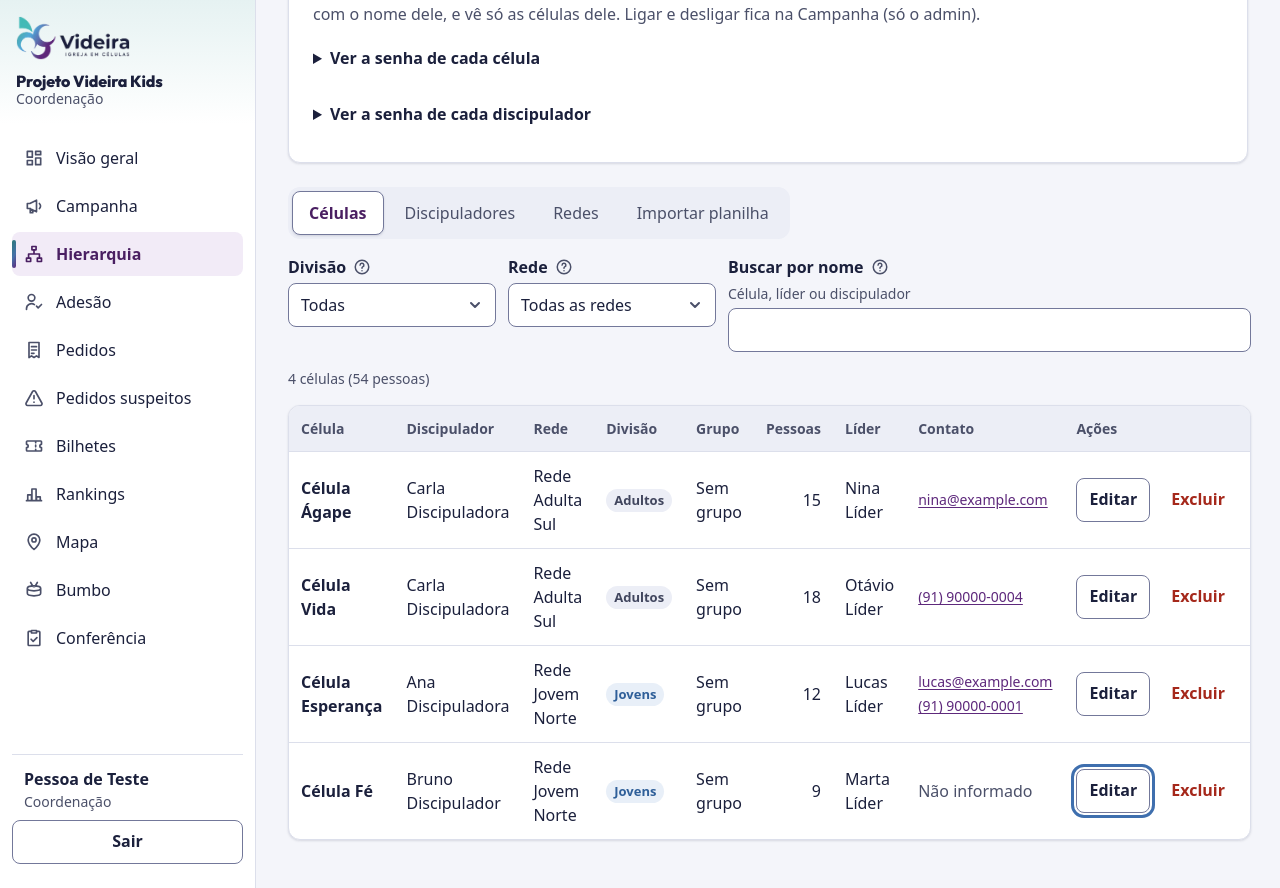
Test case: CA2: editar e excluir › o diálogo prende o foco (Tab e Shift+Tab dão a volta) e Esc fecha devolvendo o foco
(page scrolled)
Click the button named "Editar Célula Fé" at (1113, 790), box [1076,768,1150,812]
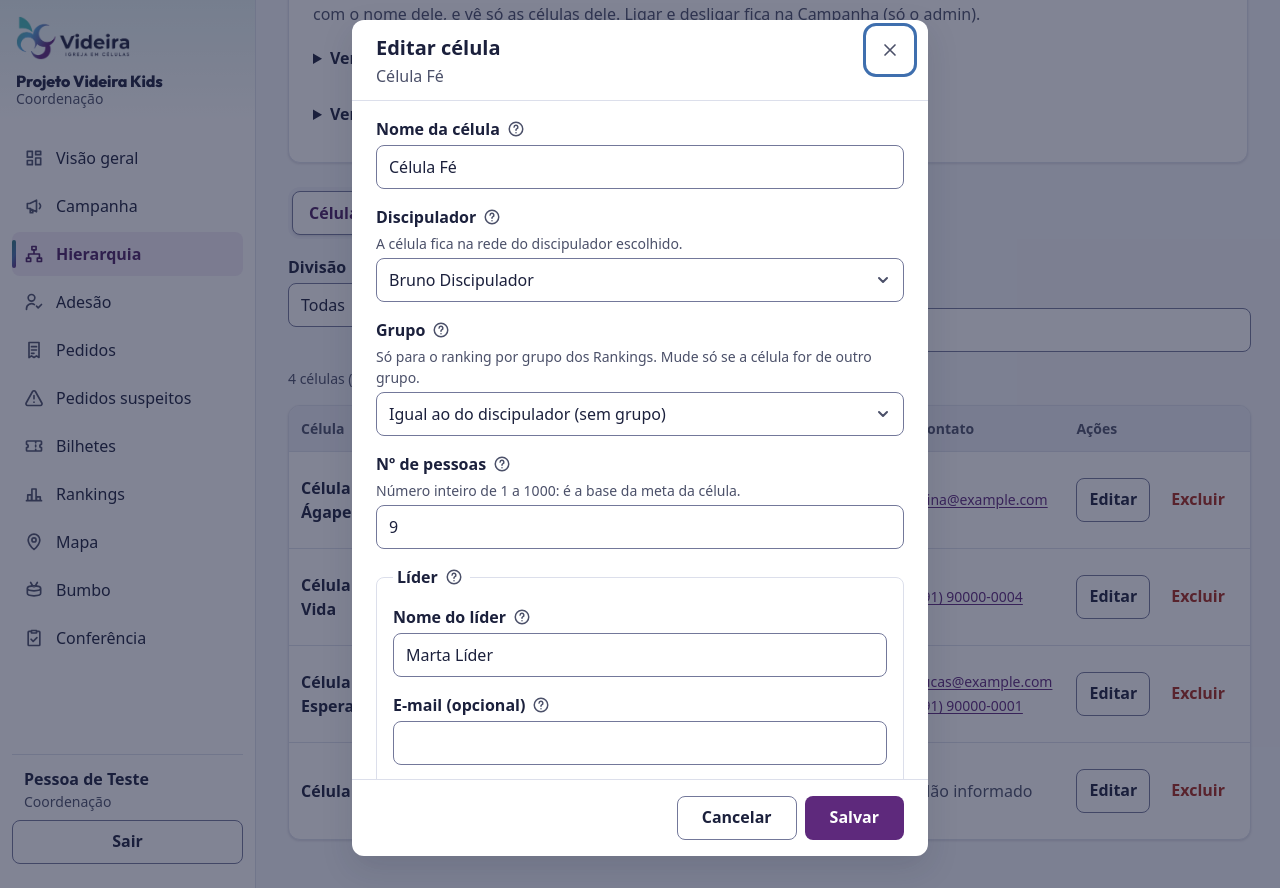
Press Tab in the button named "Fechar", box [868,28,912,72]
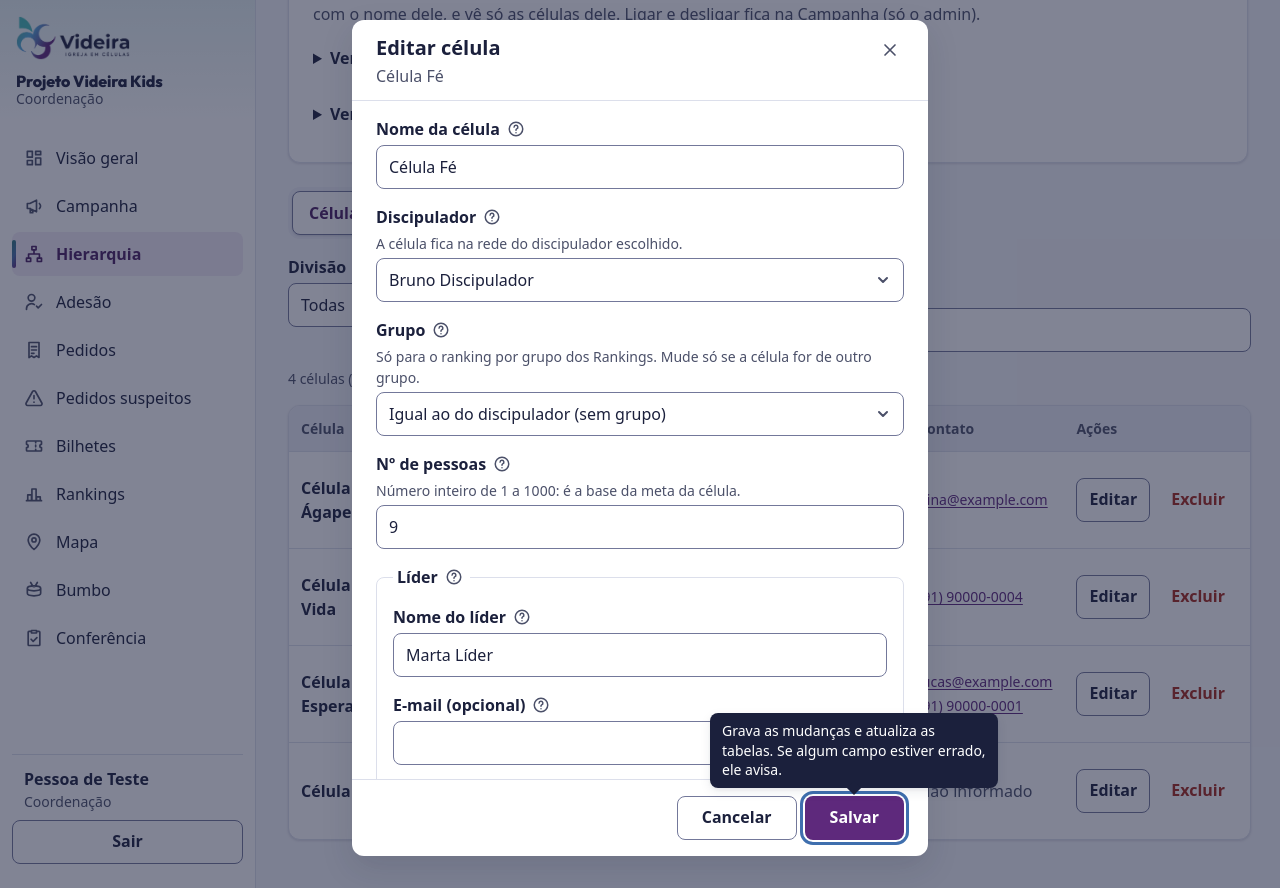
Press Tab in the button "Salvar", box [805,796,904,840]
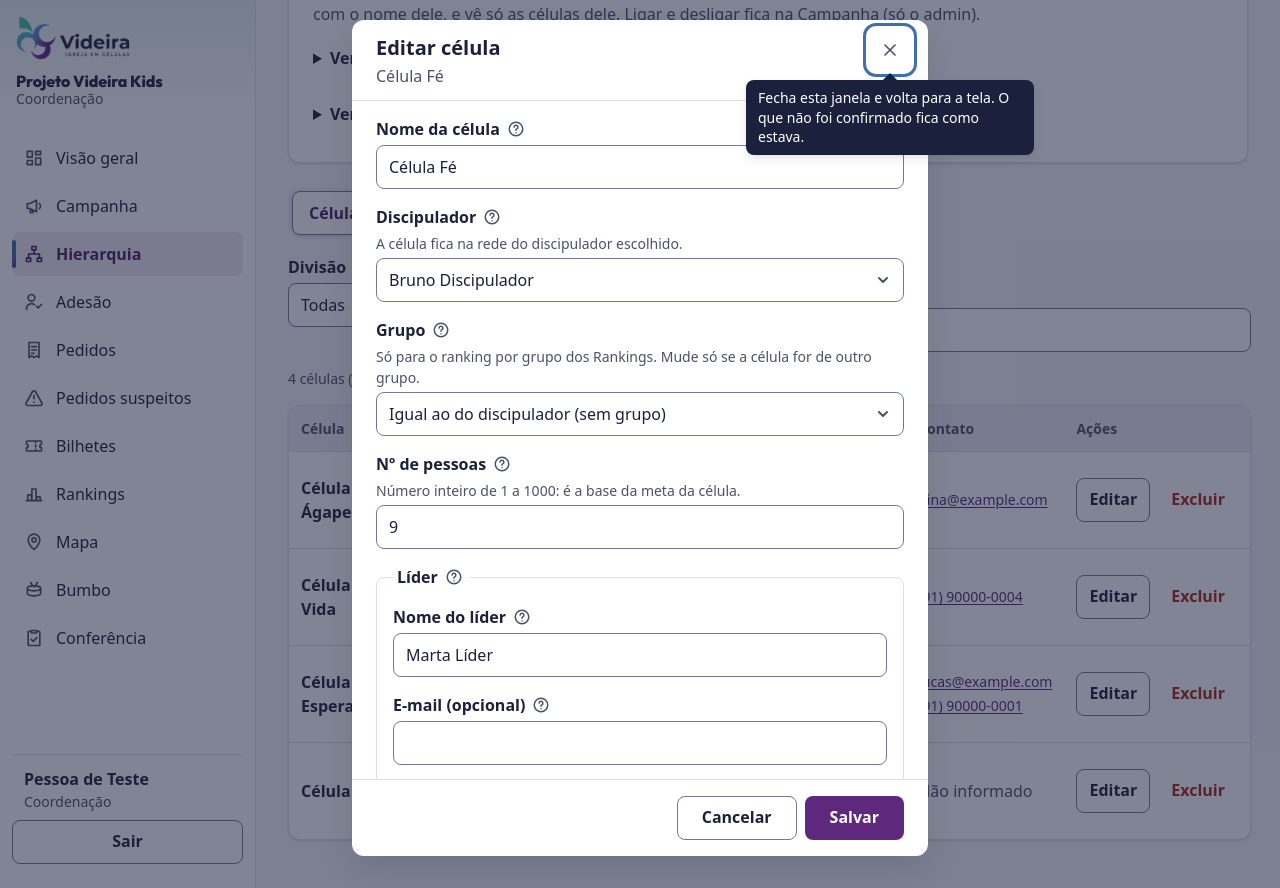
Press Escape in the button named "Fechar", box [868,28,912,72]
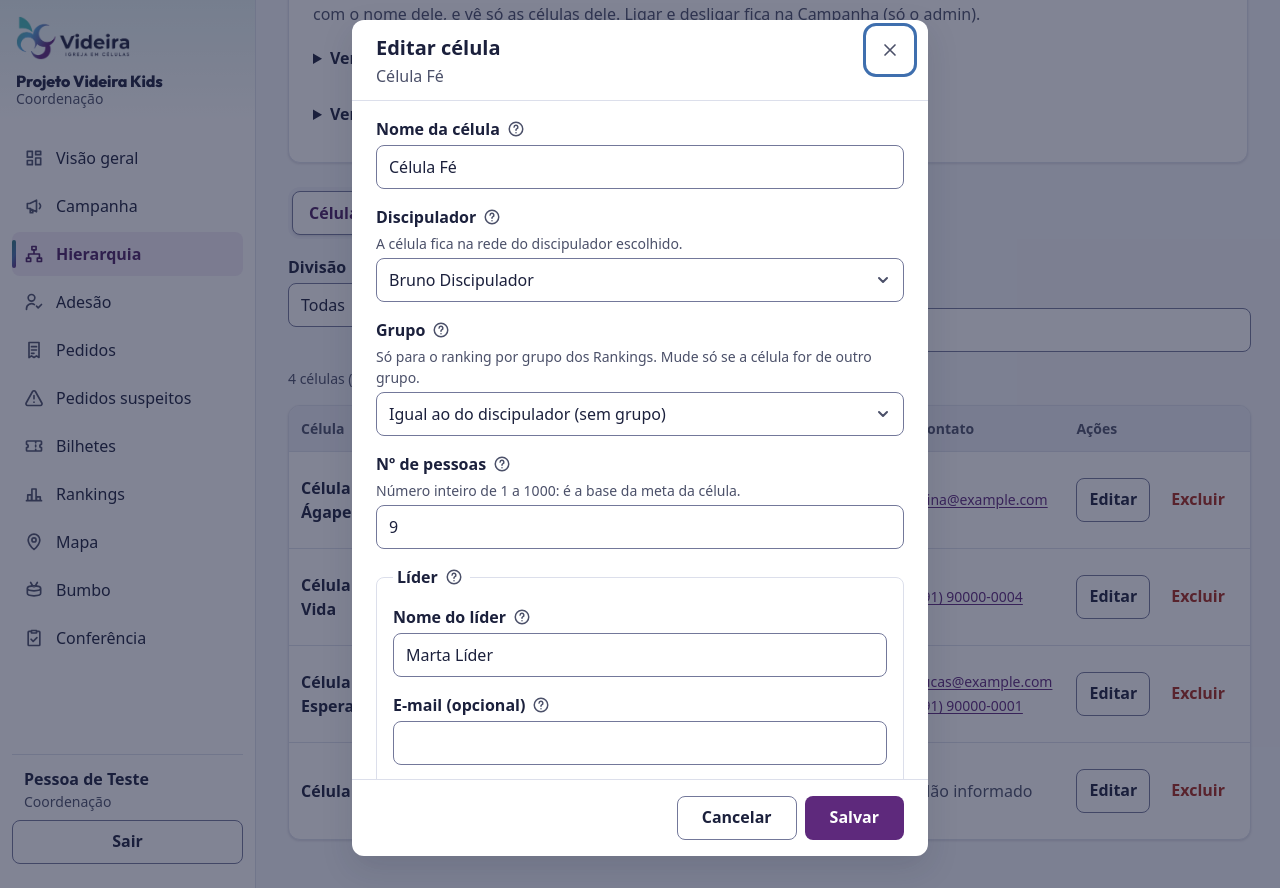
Result: the tooltip is gone
Press Escape in the button named "Fechar", box [868,28,912,72]
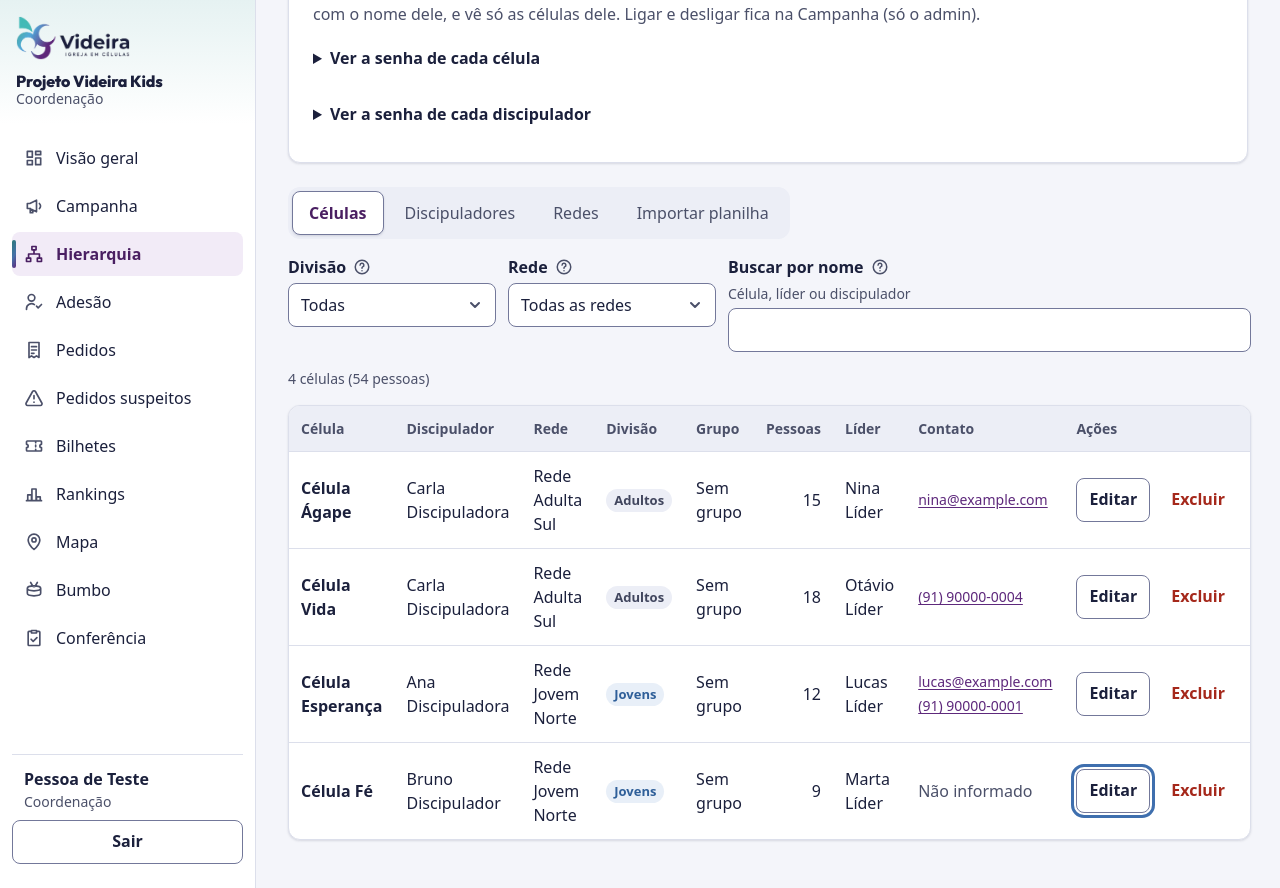
Result: the dialog is gone
